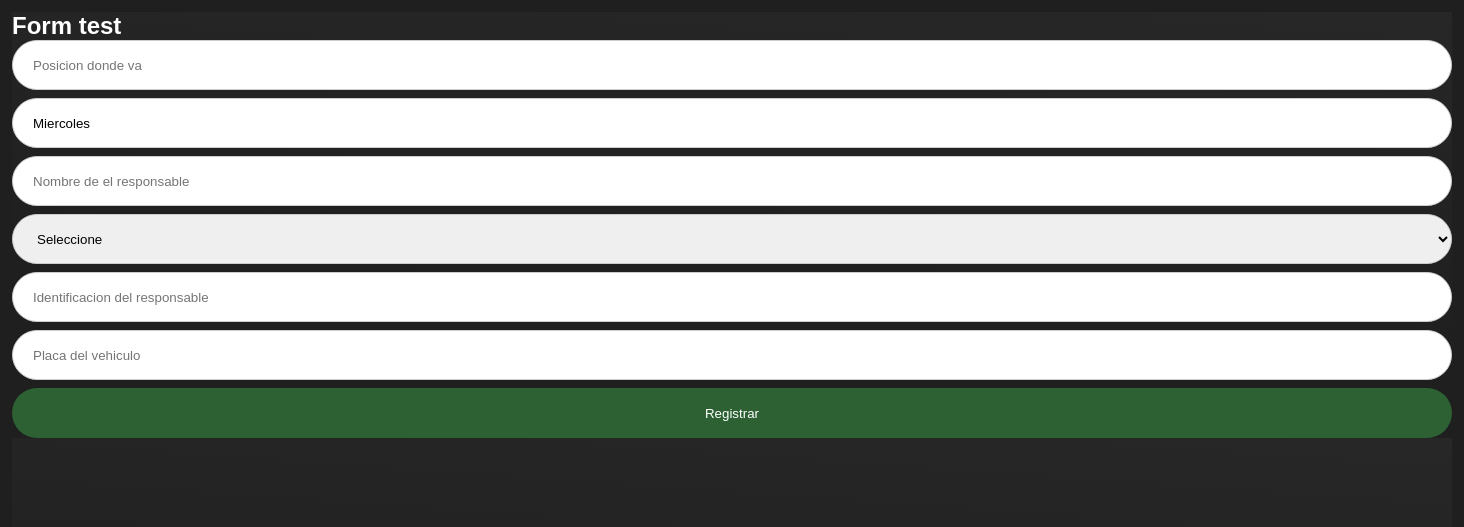
Test case: test FormCrearVehicles › should fail on submit four fields missing
In the field named "responsable": (732, 181) [12,156,1452,206], type "Lorem"
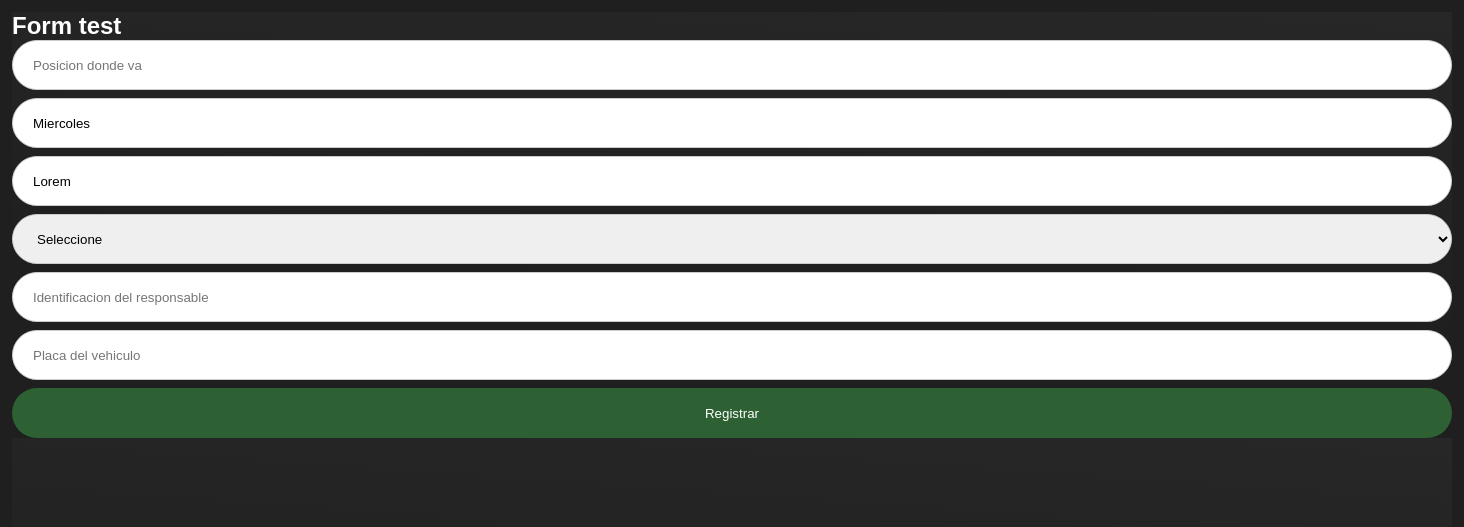
Click the submit button: (732, 413) [12,388,1452,438]
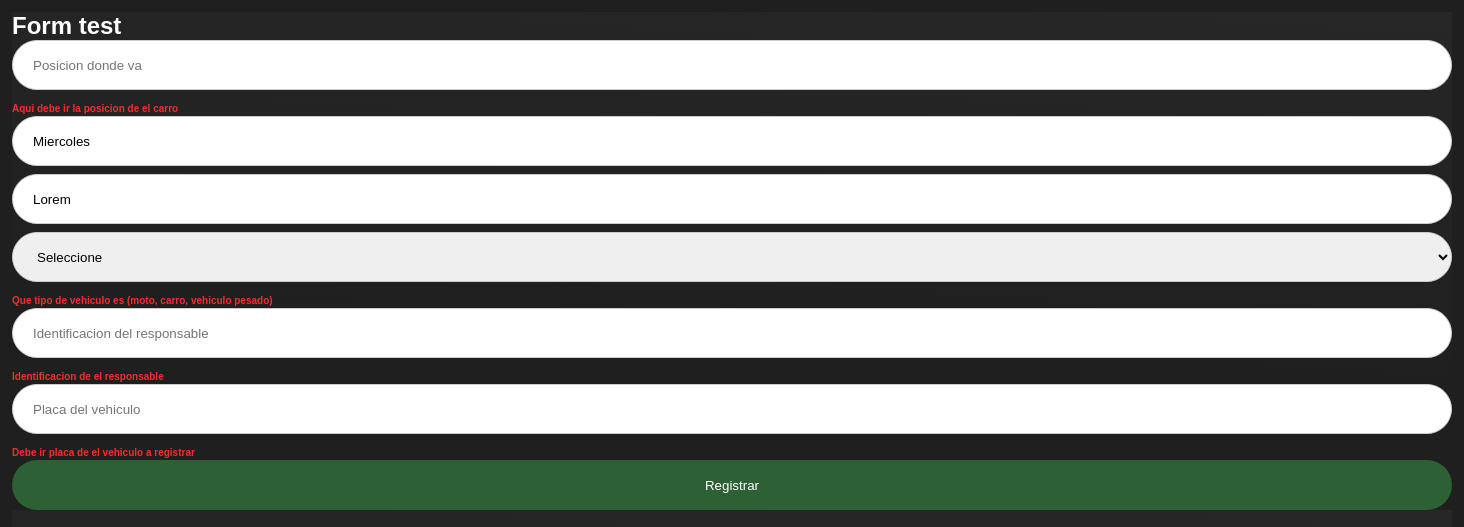
Now the text "Aqui debe ir la posicion de el carro" is shown, box [12,103,178,114]
Now the text "Que tipo de vehiculo es (moto, carro, vehiculo pesado)" is shown, box [12,295,273,306]
